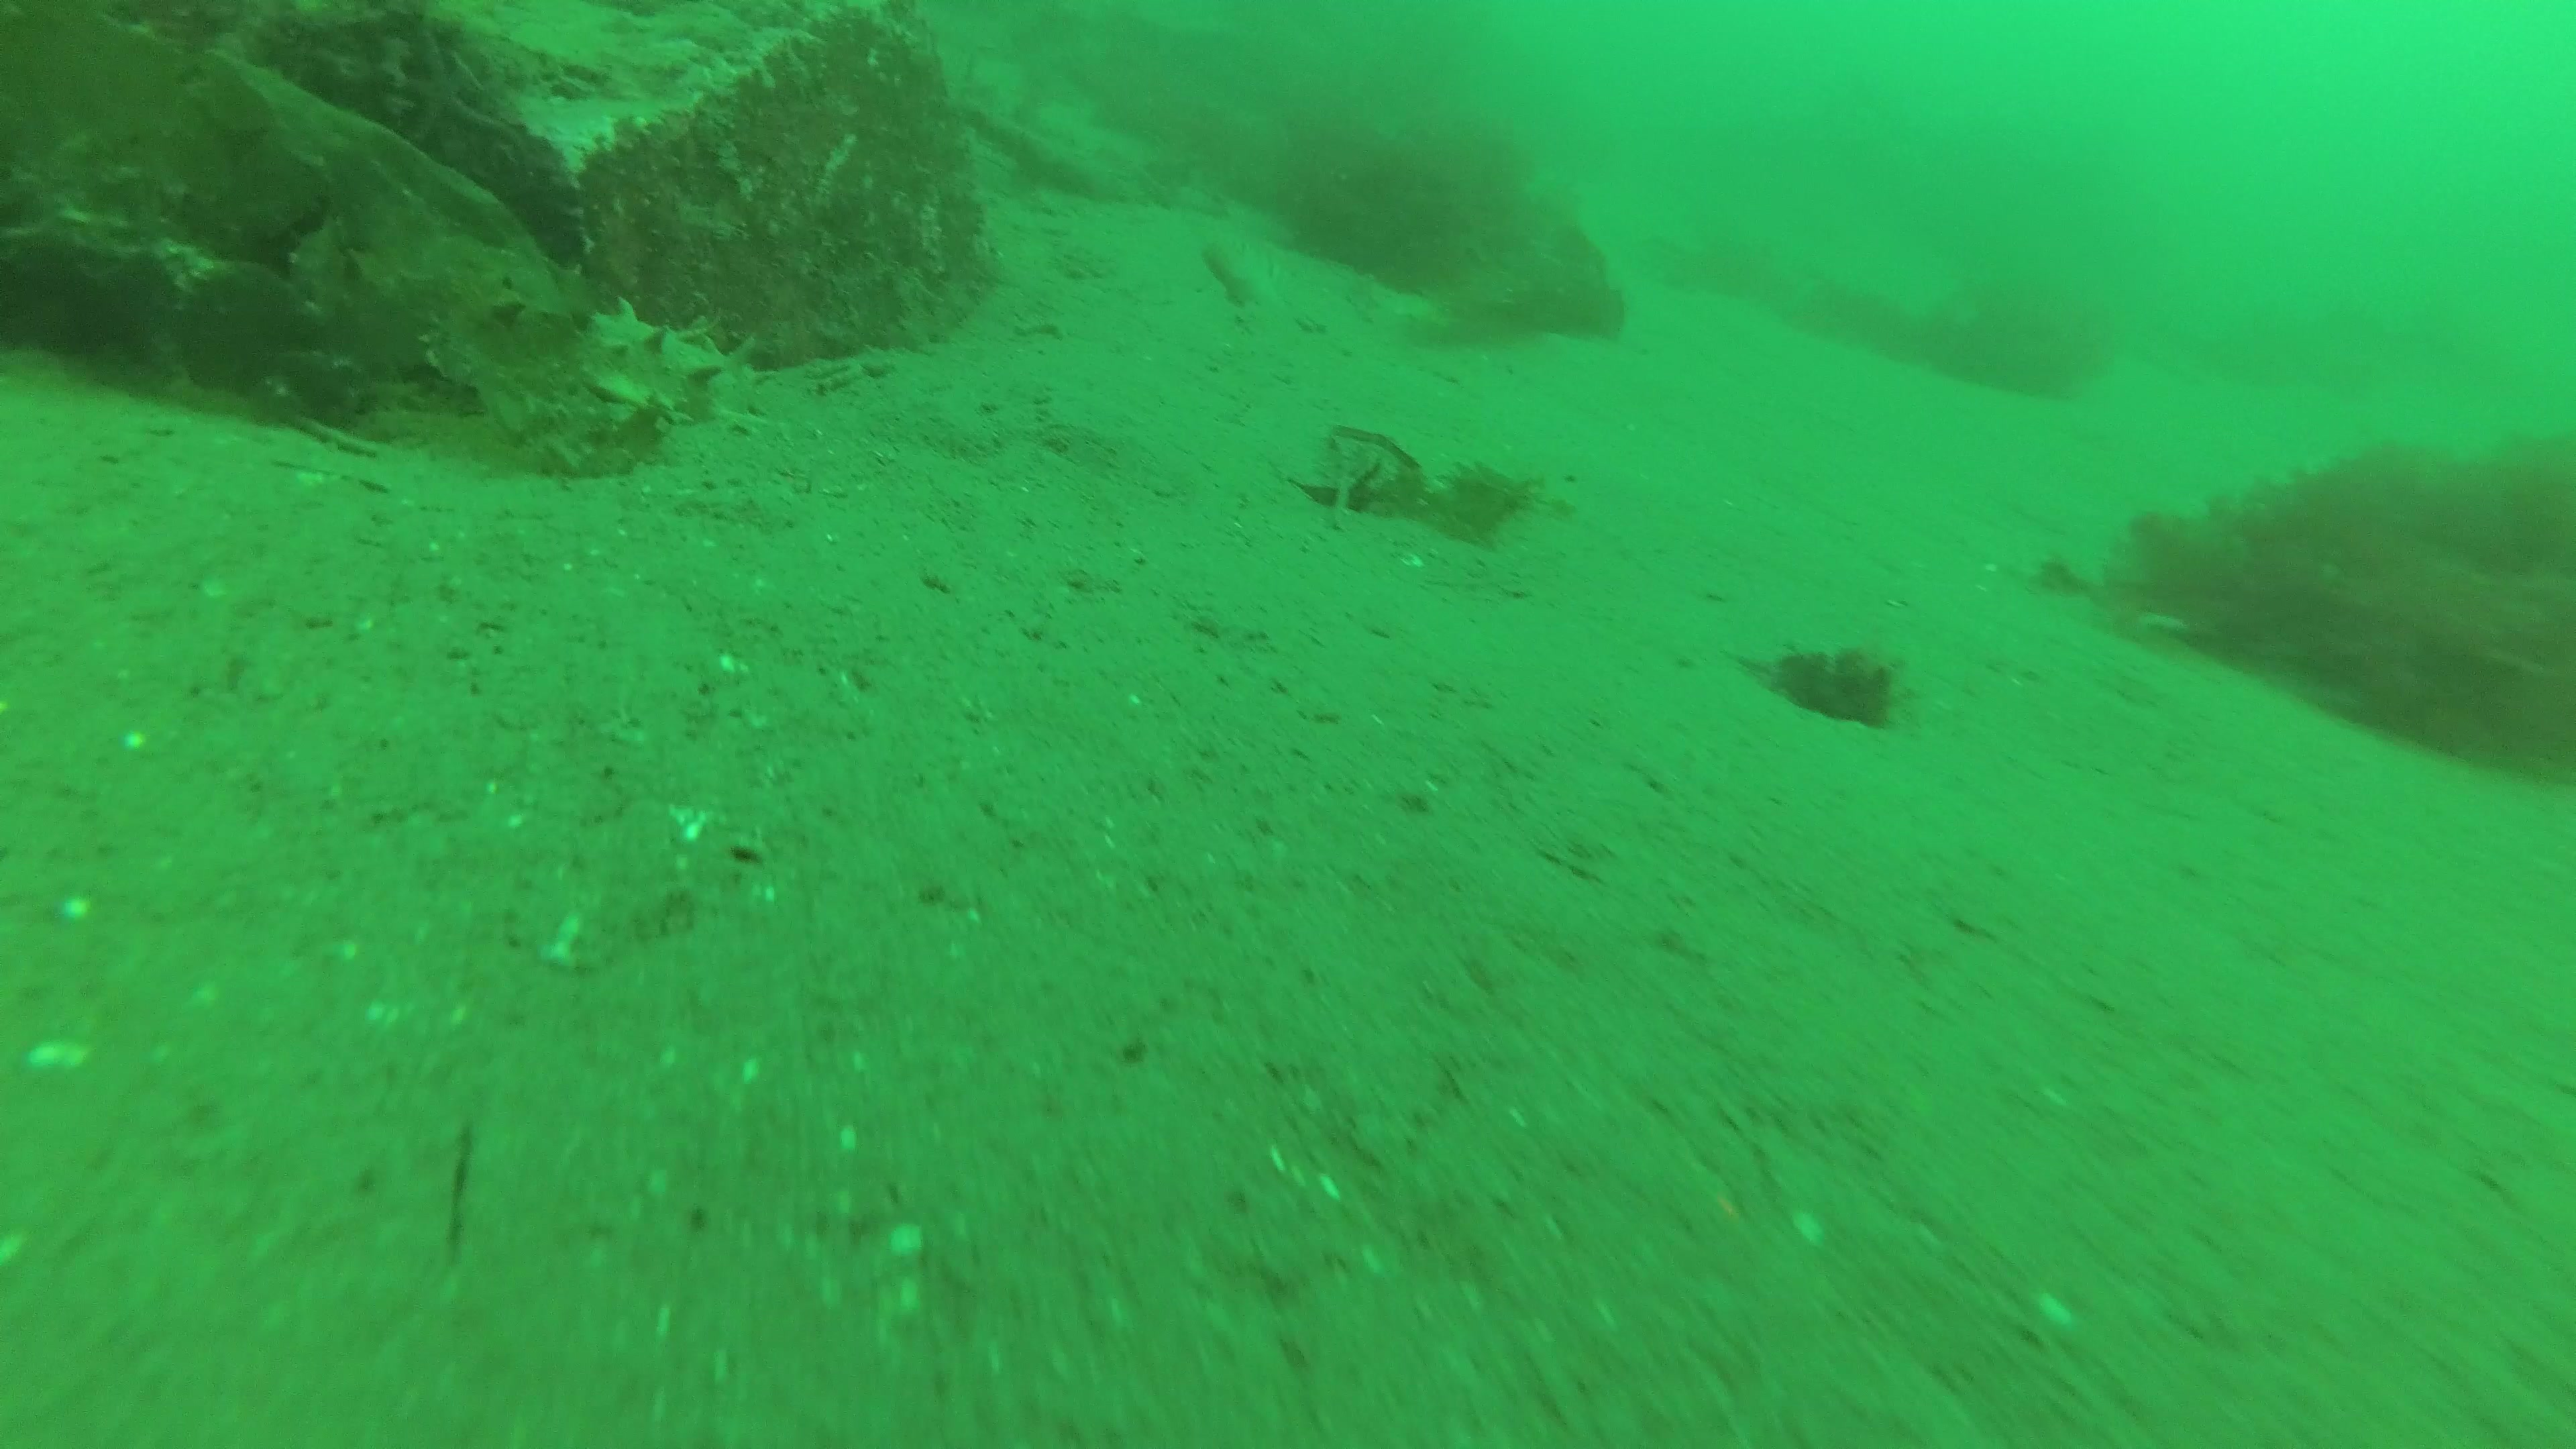holothurian: (416, 294, 775, 441)
